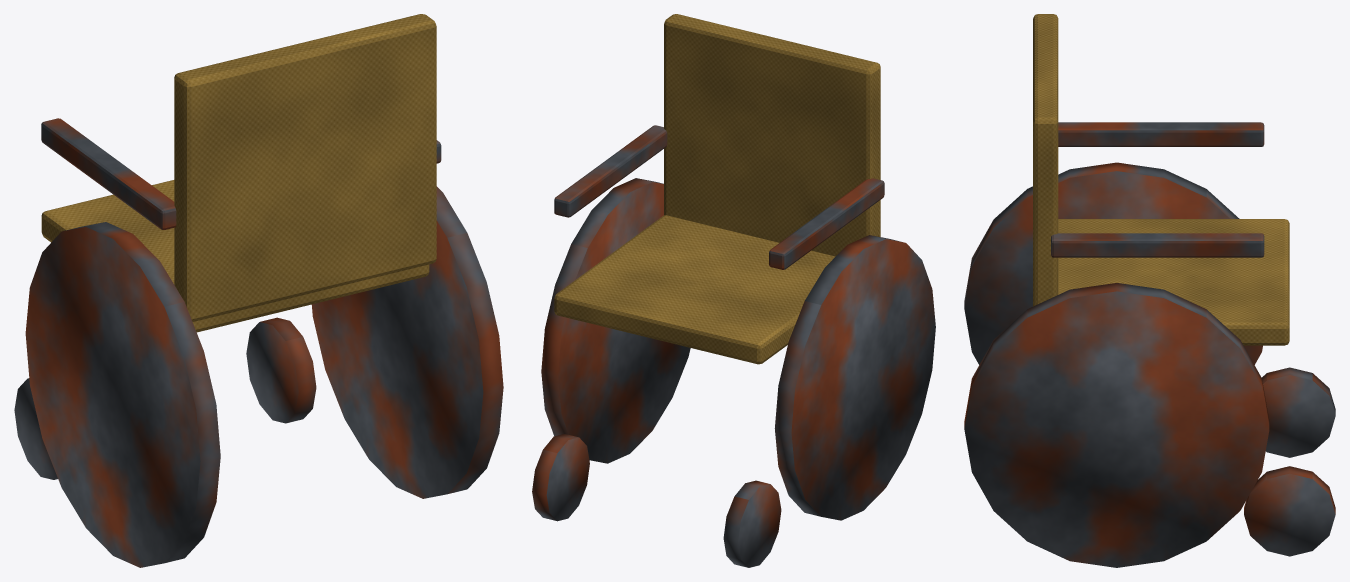
Rendered from prop_wheelchair.glb.
3 renders of one model, left to right at view 1: azimuth 30°, elevation 25°; view 2: azimuth 150°, elevation 25°; view 3: azimuth 270°, elevation 25°, orthographic. The views are drawn at different scales.
Parts seen in each view (by area): view 1: Backrest, BigWheel_-0.28, BigWheel_0.28, Seat, FrontCaster_0.28, Armrest_-0.28, FrontCaster_-0.28; view 2: Backrest, BigWheel_-0.28, Seat, BigWheel_0.28, FrontCaster_0.28, FrontCaster_-0.28, Armrest_-0.28, Armrest_0.28; view 3: BigWheel_0.28, Seat, BigWheel_-0.28, Backrest, FrontCaster_0.28, Armrest_0.28, FrontCaster_-0.28, Armrest_-0.28.
Boxes of the visible parts, x1,y1,x2,y2 form: Backrest: [174, 14, 436, 321]; BigWheel_-0.28: [25, 222, 220, 567]; BigWheel_0.28: [311, 186, 503, 498]; Seat: [41, 180, 429, 332]; FrontCaster_0.28: [246, 317, 316, 423]; Armrest_-0.28: [41, 118, 176, 229]; FrontCaster_-0.28: [14, 378, 57, 479]; Backrest: [664, 14, 880, 256]; BigWheel_-0.28: [774, 235, 935, 520]; Seat: [554, 215, 835, 364]; BigWheel_0.28: [541, 178, 690, 463]; FrontCaster_0.28: [532, 434, 589, 521]; FrontCaster_-0.28: [723, 480, 781, 567]; Armrest_-0.28: [769, 178, 884, 269]; Armrest_0.28: [554, 125, 667, 217]; BigWheel_0.28: [964, 283, 1269, 567]; Seat: [1058, 219, 1289, 345]; BigWheel_-0.28: [964, 162, 1262, 364]; Backrest: [1033, 14, 1058, 306]; FrontCaster_0.28: [1244, 466, 1335, 556]; Armrest_0.28: [1051, 233, 1264, 257]; FrontCaster_-0.28: [1262, 367, 1335, 457]; Armrest_-0.28: [1058, 122, 1264, 146].
Bounding box in the file's own units: 0.6005 × 0.95 × 0.73.
2 materials, 2 textured.
